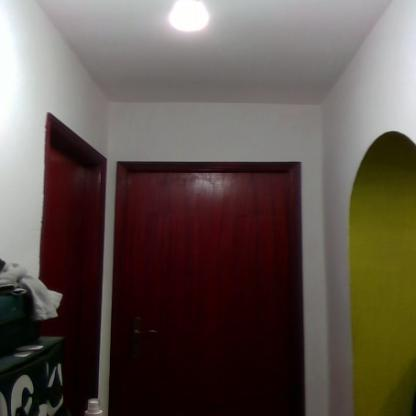door: (118, 168, 299, 416), (48, 144, 96, 415)
lever: (131, 327, 161, 338)
